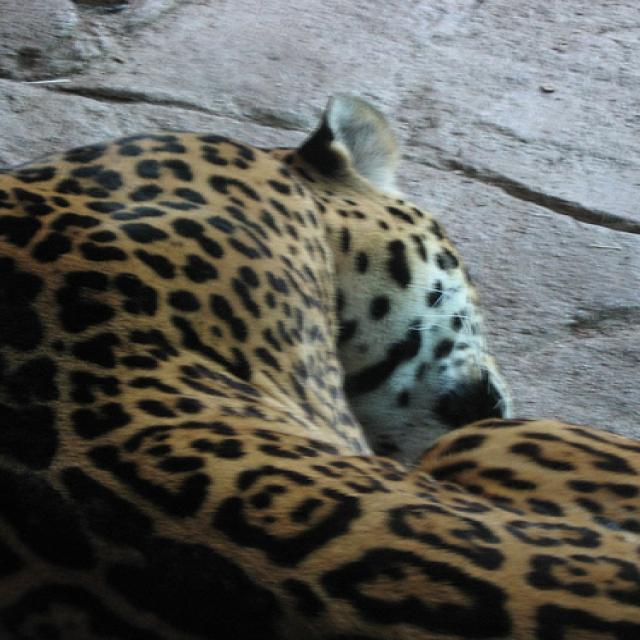Leopard: (0, 95, 635, 636)
